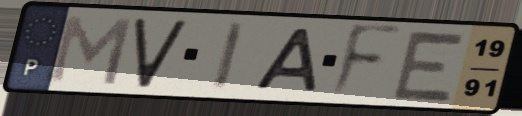A: (249, 26, 321, 95)
E: (389, 27, 471, 104)
F: (325, 21, 406, 103)
I: (208, 19, 249, 94)
M: (46, 12, 136, 88)
V: (131, 17, 192, 90)
